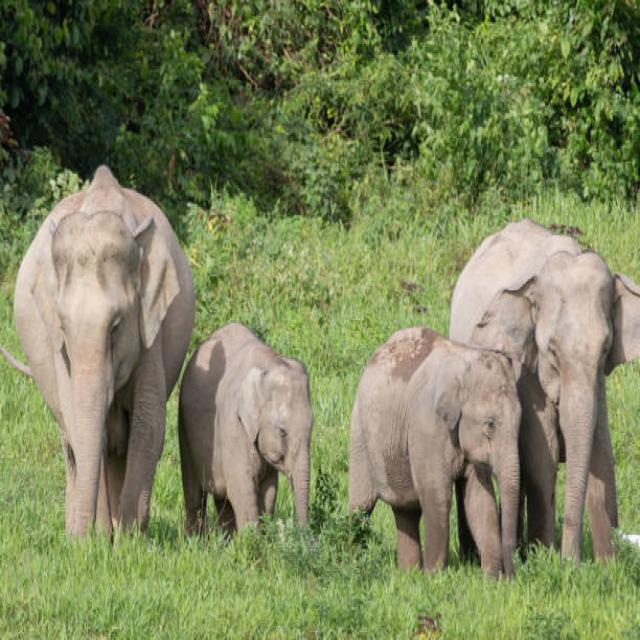Elephant: (12, 166, 182, 562), (452, 222, 640, 577), (346, 316, 522, 586), (188, 314, 318, 564)
